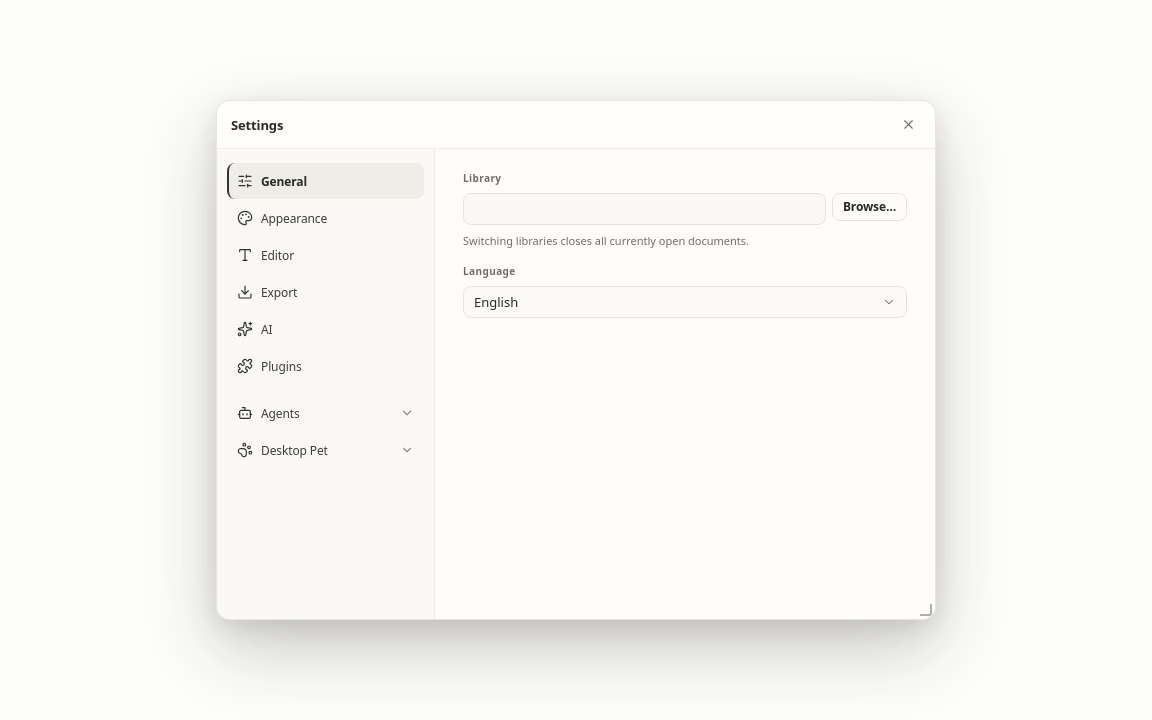
the pet’s settings are reachable from the dialog › opens the section from a row in the rail
Click the tab with class "nav-row" showing "Desktop Pet": (326, 450) [227,432,424,468]
Wait 20 ms
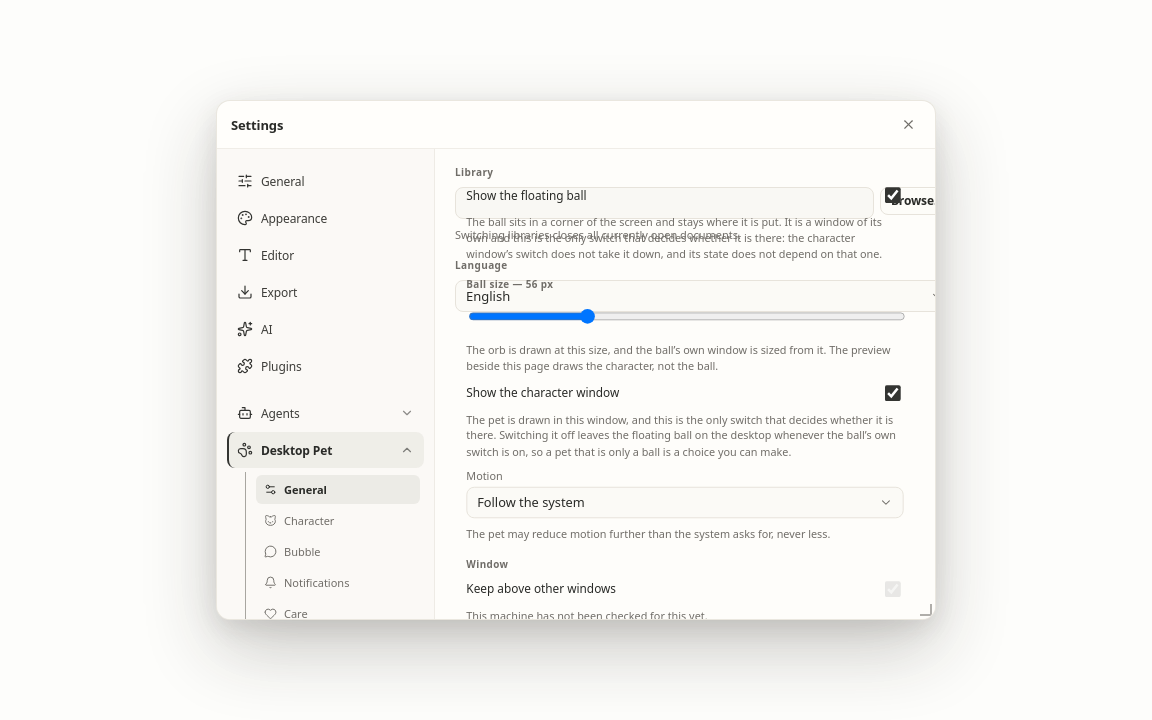
Check: the element named "Desktop Pet" is shown, box [245,472,420,619]
